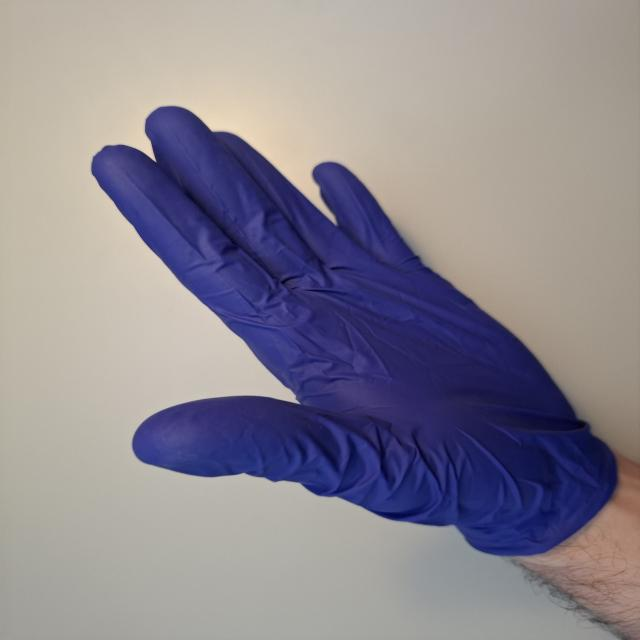glove_on: (86, 102, 606, 560)
